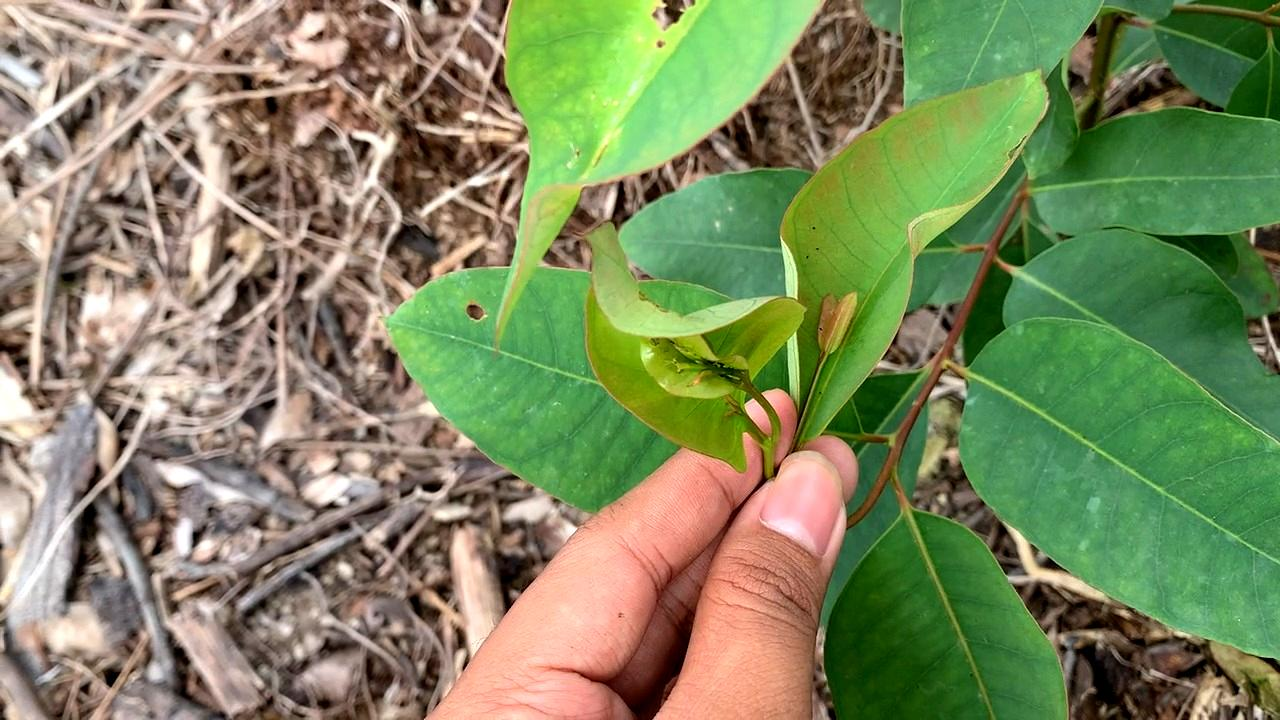Leaf Roller - Leaf: (585, 229, 808, 481)
